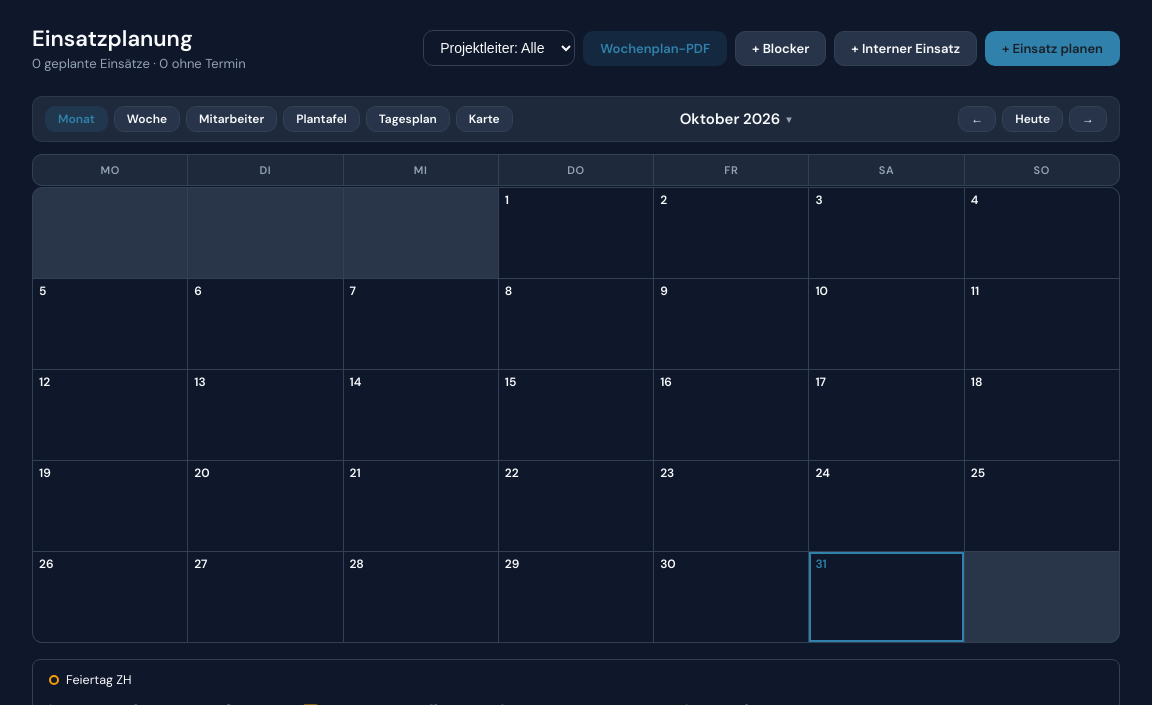
Blocker mit Kategorien › startet mit leerem Titel und übernimmt die gewählte Kategorie
Click the button "+ Blocker": (781, 48) [735,30,826,66]
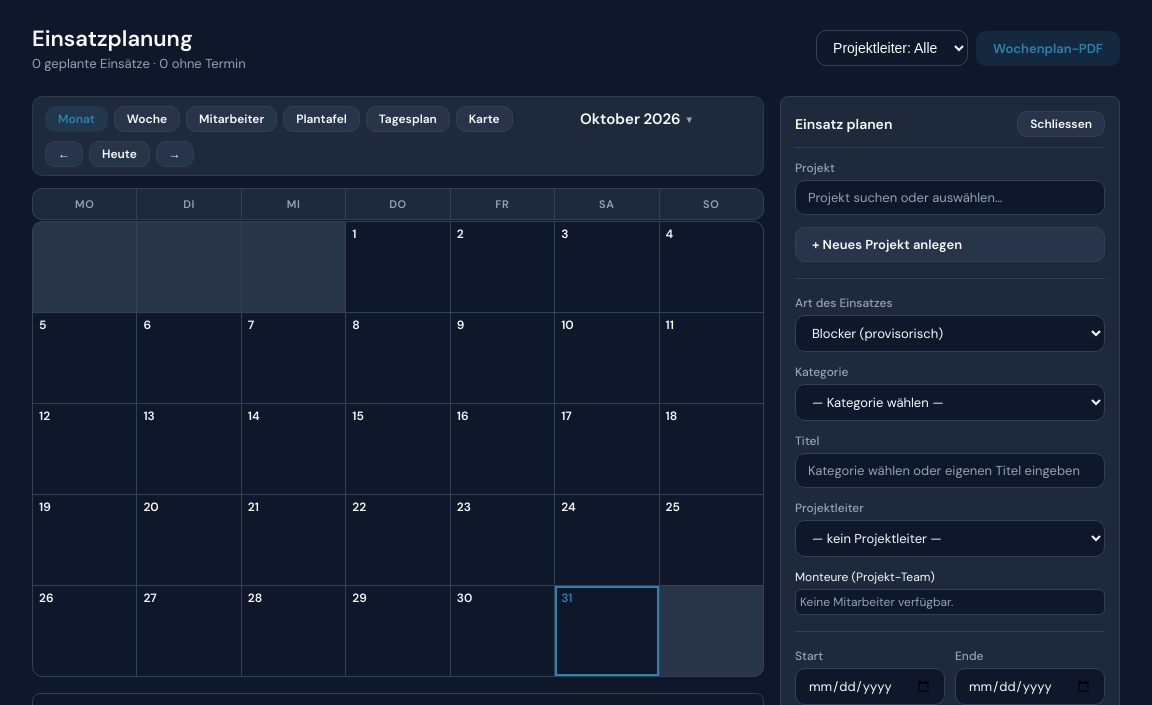
Result: the field labelled "Titel" is empty at [795,453,1105,488]
Select "Wetter" in the dropdown labelled "Kategorie": (950, 402) [795,384,1105,421]
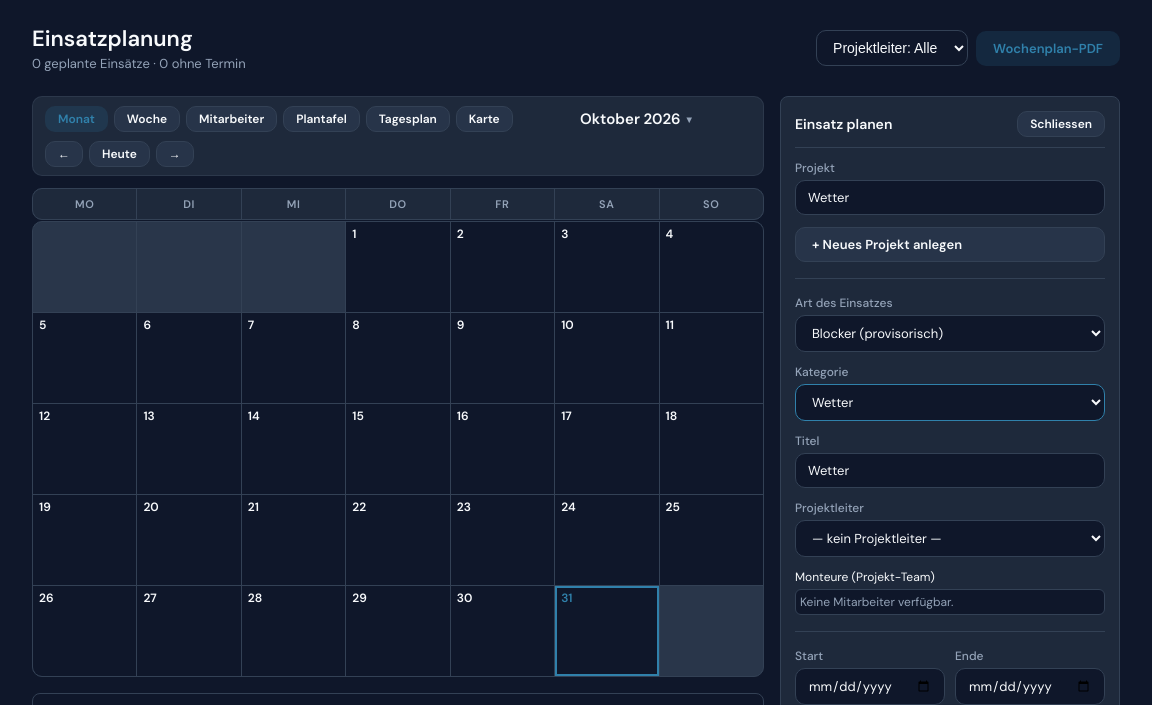
Result: the field labelled "Titel" holds "Wetter" at [795,453,1105,488]
